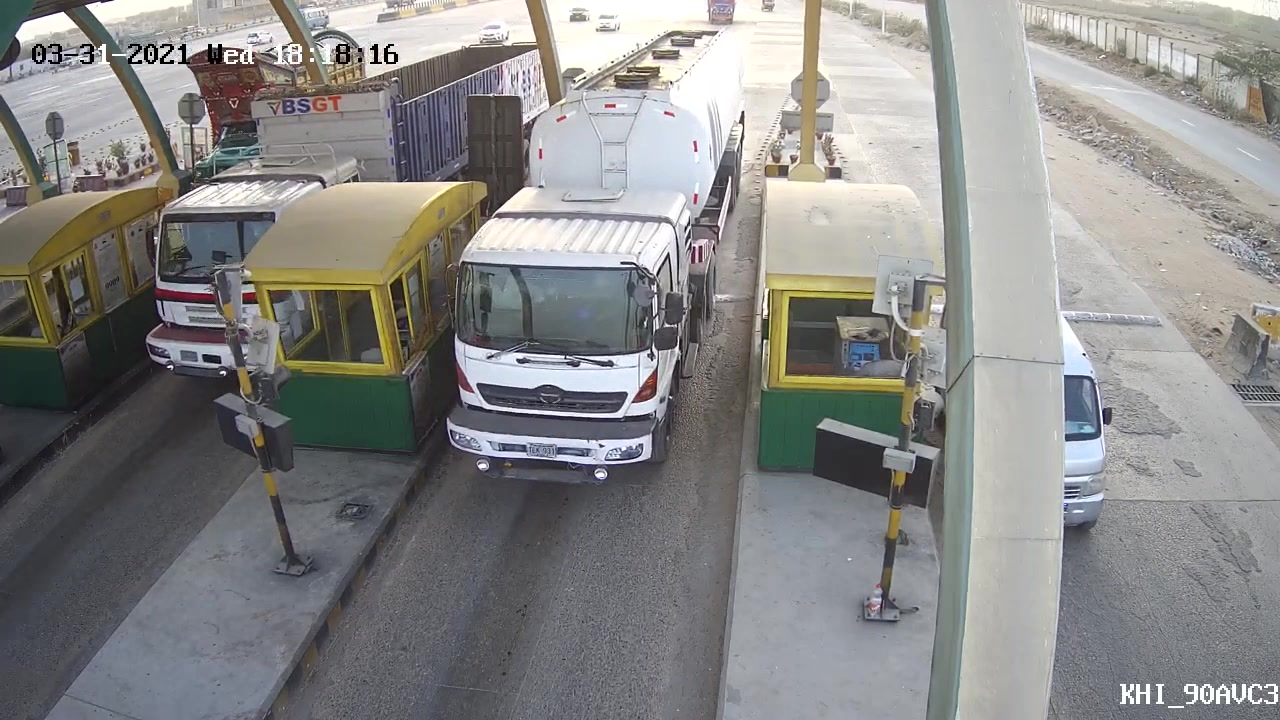F6: (437, 20, 749, 486)
